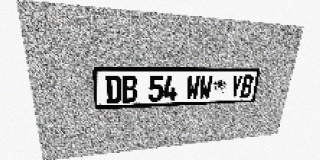4: (163, 75, 178, 101)
5: (149, 75, 164, 102)
B: (122, 75, 137, 103), (240, 75, 254, 98)
D: (105, 75, 121, 104)
W: (185, 75, 200, 100), (198, 75, 213, 100)
Y: (229, 75, 243, 98)
